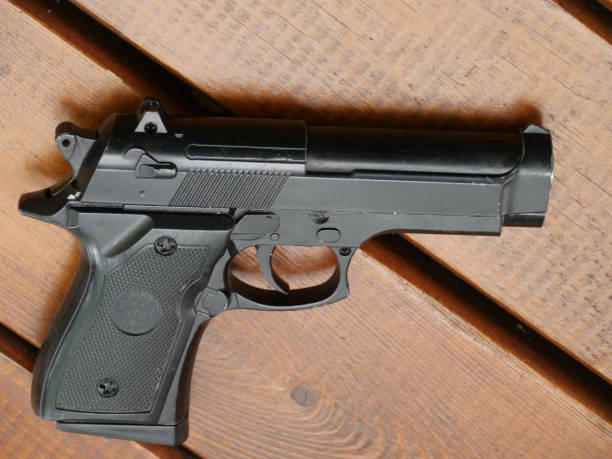gun: (16, 101, 557, 443)
